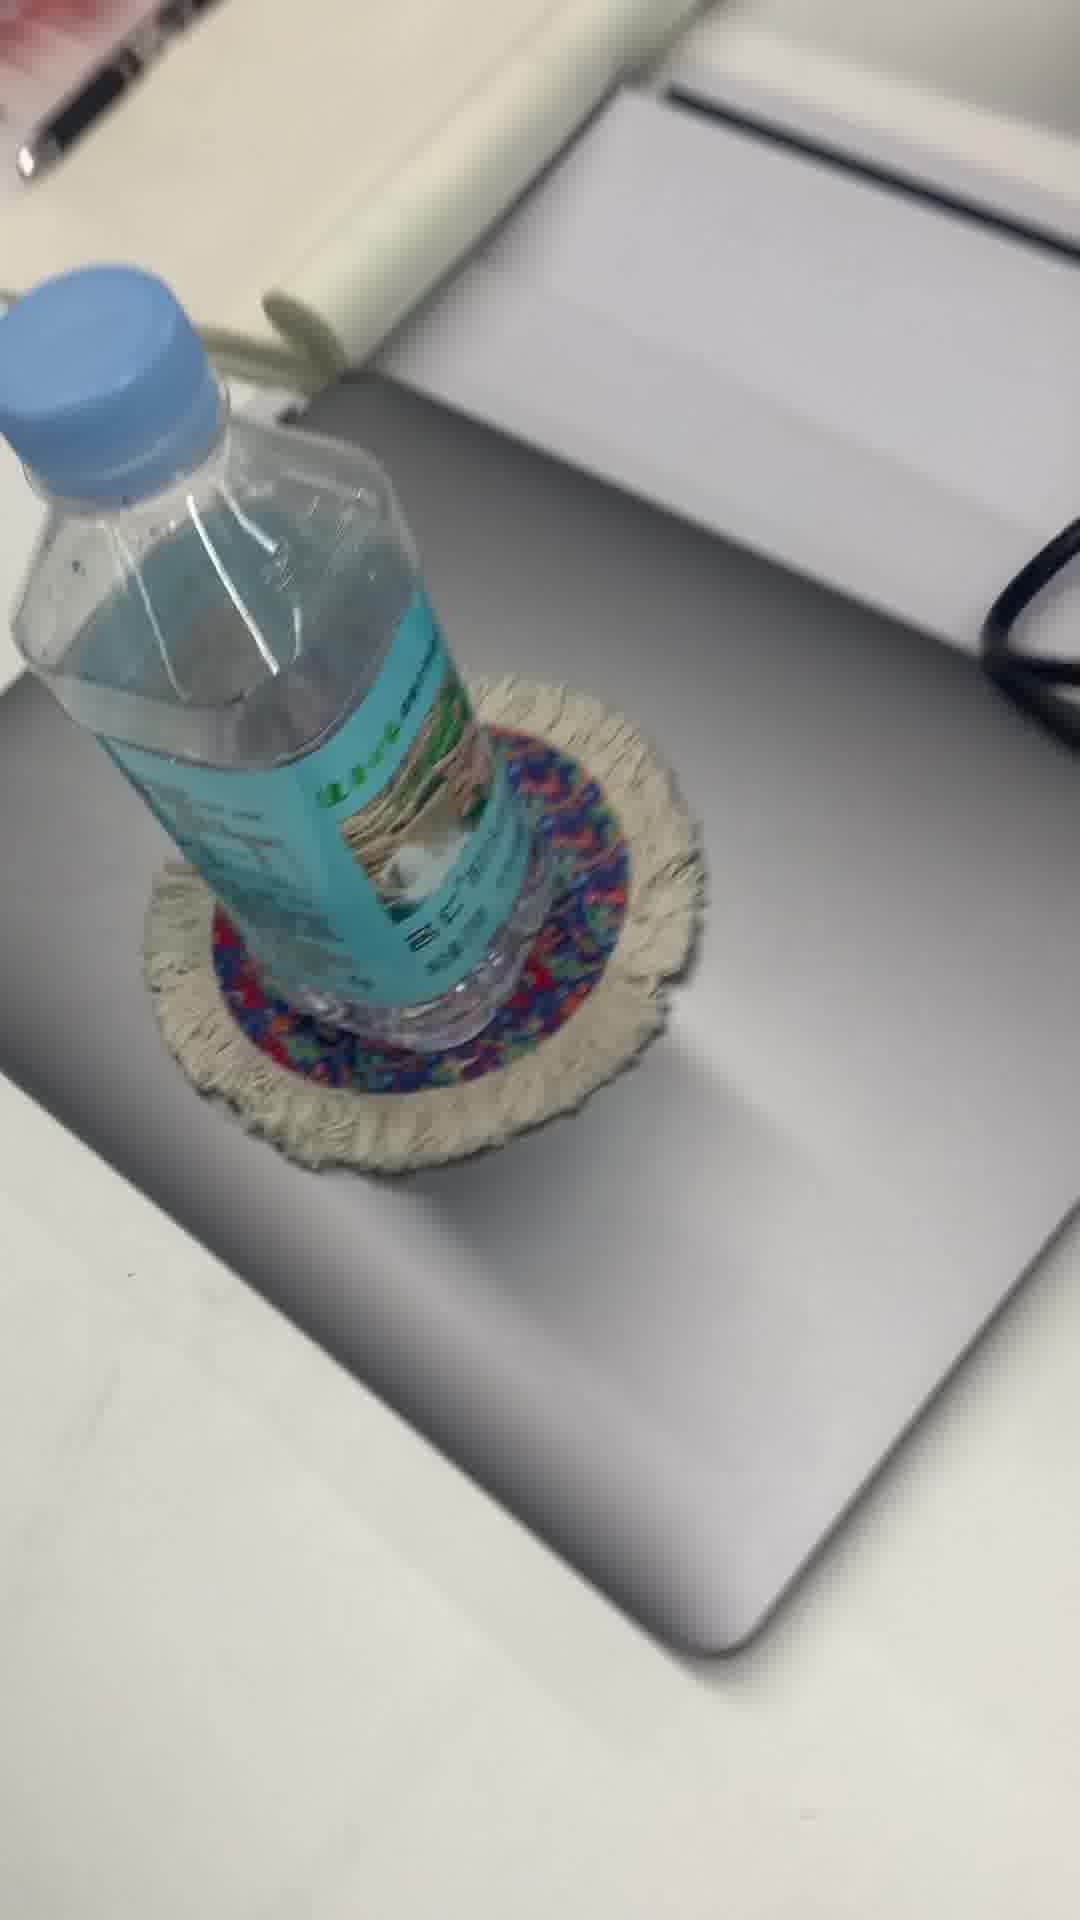水瓶: (4, 262, 556, 1058)
